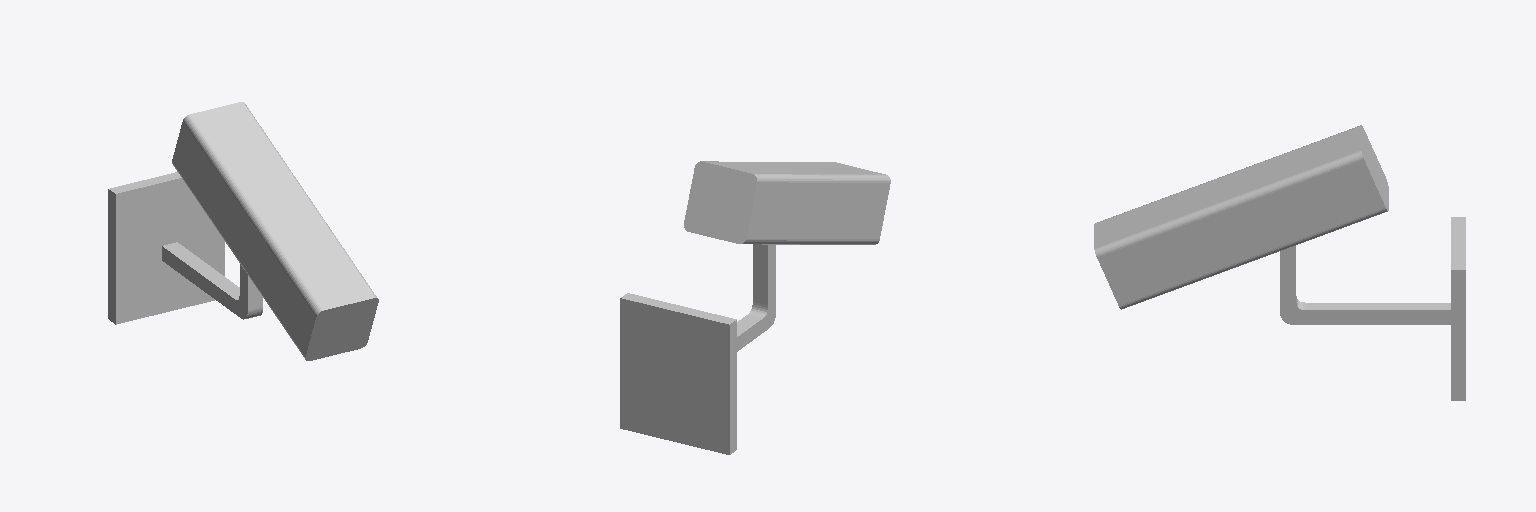
File: camera.obj
3 renders of one model, left to right at view 1: azimuth 30°, elevation 25°; view 2: azimuth 150°, elevation 25°; view 3: azimuth 270°, elevation 25°, orthographic.
Parts seen in each view (by area): view 1: Rectangle001, Rectangle003, Rectangle002; view 2: Rectangle003, Rectangle001, Rectangle002; view 3: Rectangle001, Rectangle002, Rectangle003.
Boxes of the visible parts, x1,y1,x2,y2 form: Rectangle001: [172, 102, 378, 360]; Rectangle003: [108, 172, 224, 324]; Rectangle002: [162, 242, 262, 319]; Rectangle003: [620, 293, 736, 454]; Rectangle001: [684, 161, 890, 244]; Rectangle002: [737, 244, 775, 351]; Rectangle001: [1094, 125, 1388, 309]; Rectangle002: [1280, 246, 1450, 324]; Rectangle003: [1451, 217, 1465, 400].
Bounding box in the file's own units: 70 × 145 × 206.